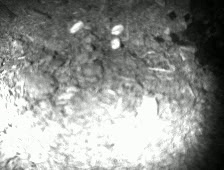corn: (68, 19, 85, 35), (107, 37, 124, 52), (109, 22, 125, 37)
